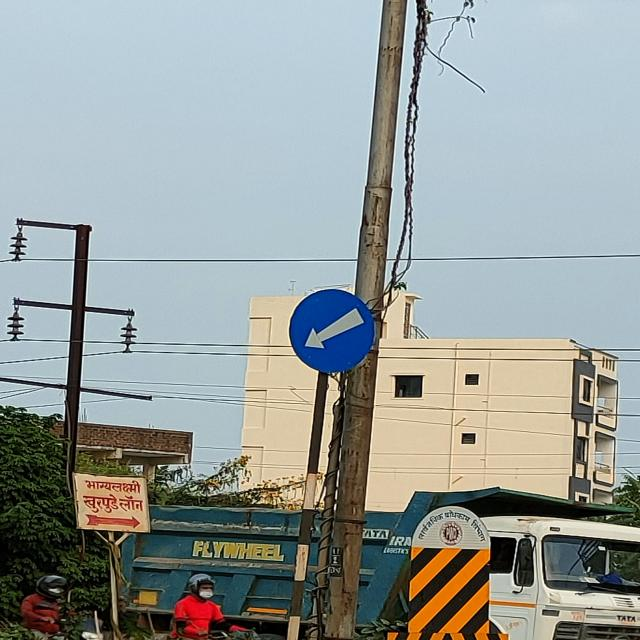COMPULSARY_KEEP_LEFT: (284, 286, 387, 381)
